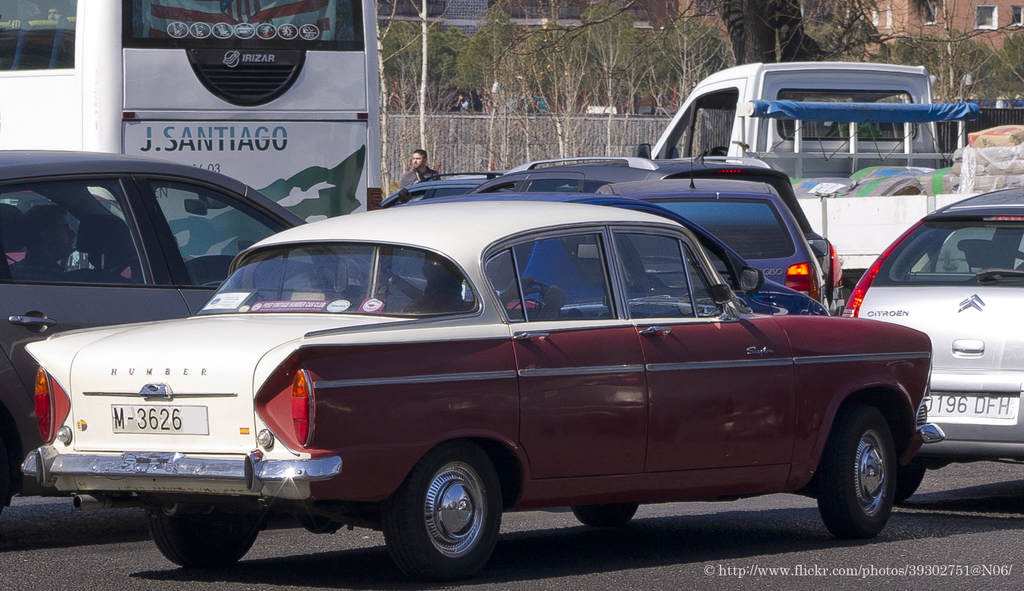Car: (0, 150, 1024, 581)
